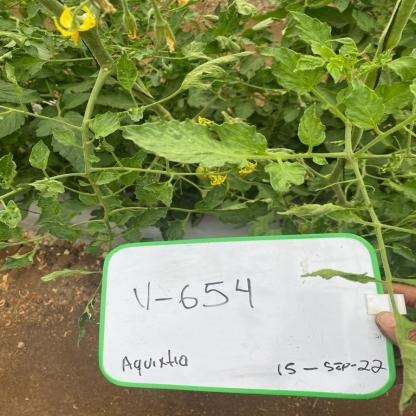T_L_R: (123, 121, 288, 170), (260, 47, 325, 96), (181, 52, 255, 90), (347, 80, 386, 131), (293, 12, 333, 50), (265, 161, 308, 194), (299, 104, 327, 153), (2, 244, 39, 271), (90, 112, 121, 140), (118, 53, 139, 92), (41, 223, 81, 242), (145, 181, 174, 207), (30, 142, 51, 172), (1, 201, 23, 229), (1, 154, 18, 190), (295, 56, 327, 73), (54, 129, 82, 148), (93, 170, 123, 186), (328, 59, 344, 84)
T_S_R: (81, 29, 116, 178), (344, 125, 382, 236), (376, 225, 398, 313), (39, 1, 65, 19), (400, 1, 416, 10)
